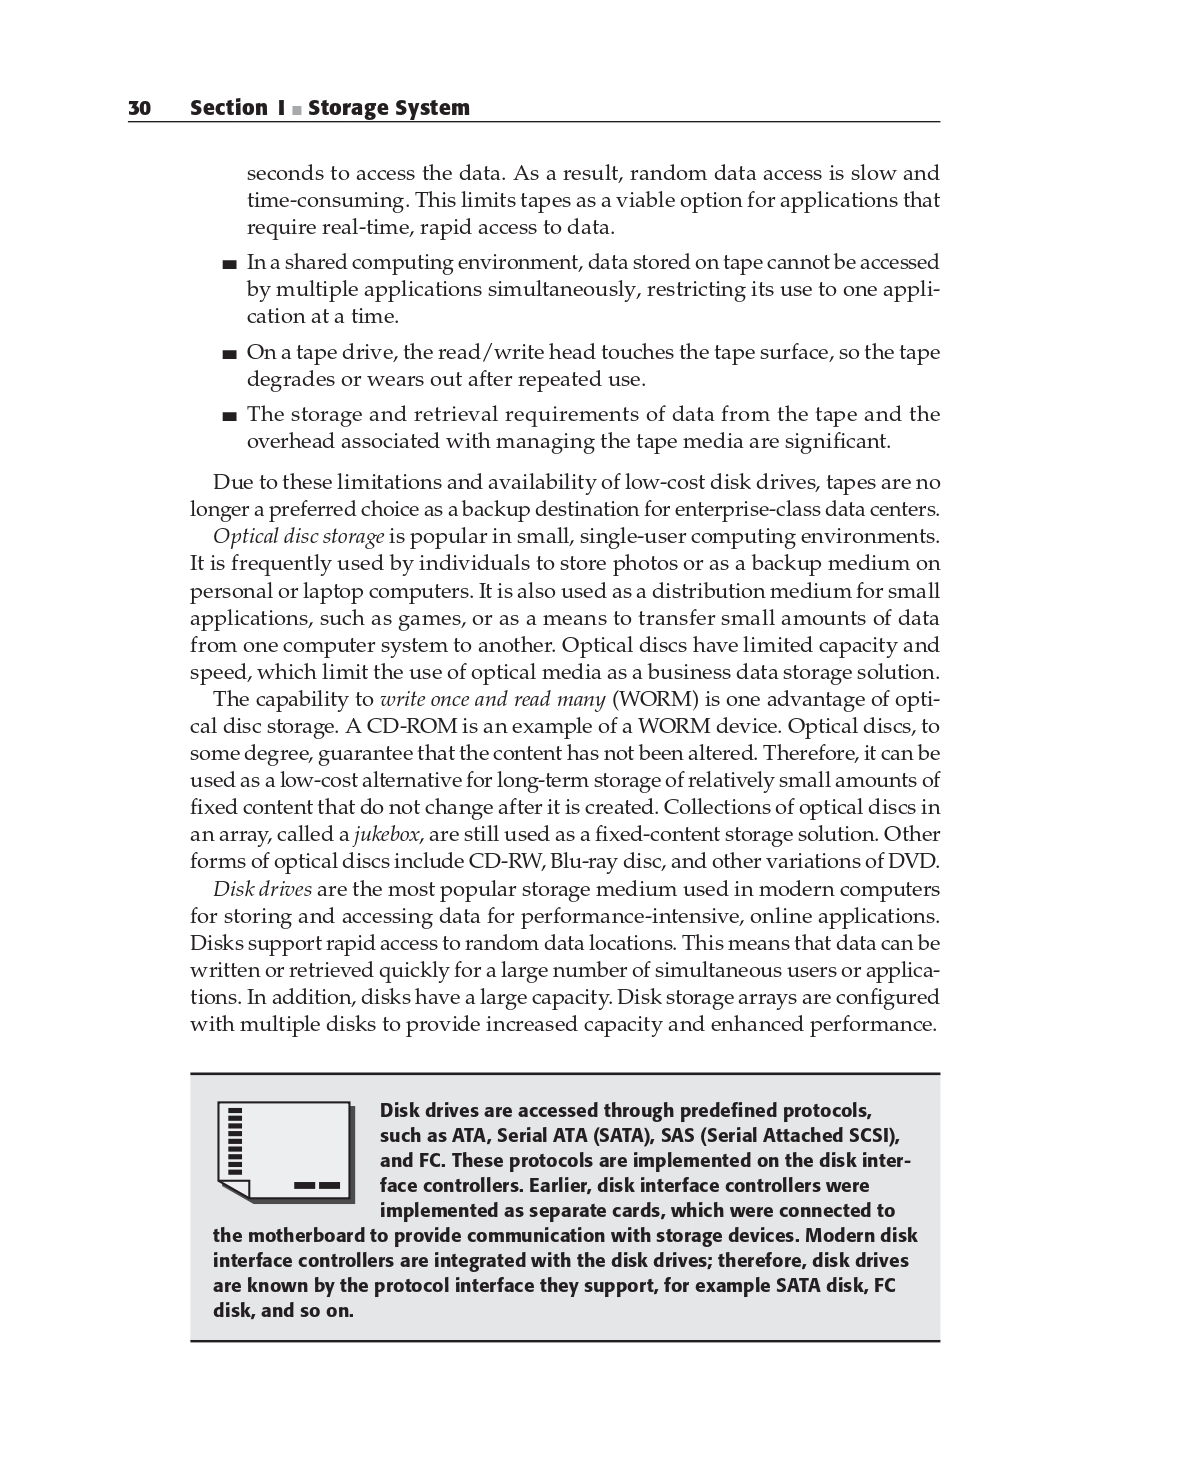Image: (219, 1096, 356, 1206)
Paragraph: (190, 468, 943, 873), (193, 879, 941, 1048), (205, 1214, 926, 1332), (371, 1081, 912, 1218), (222, 155, 941, 248), (240, 327, 947, 404), (242, 248, 935, 324), (240, 406, 949, 456), (114, 70, 482, 128)
